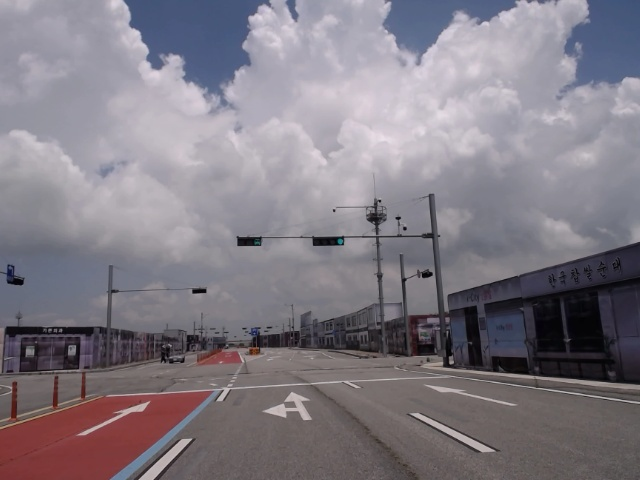straight_green_4: (310, 236, 345, 246)
